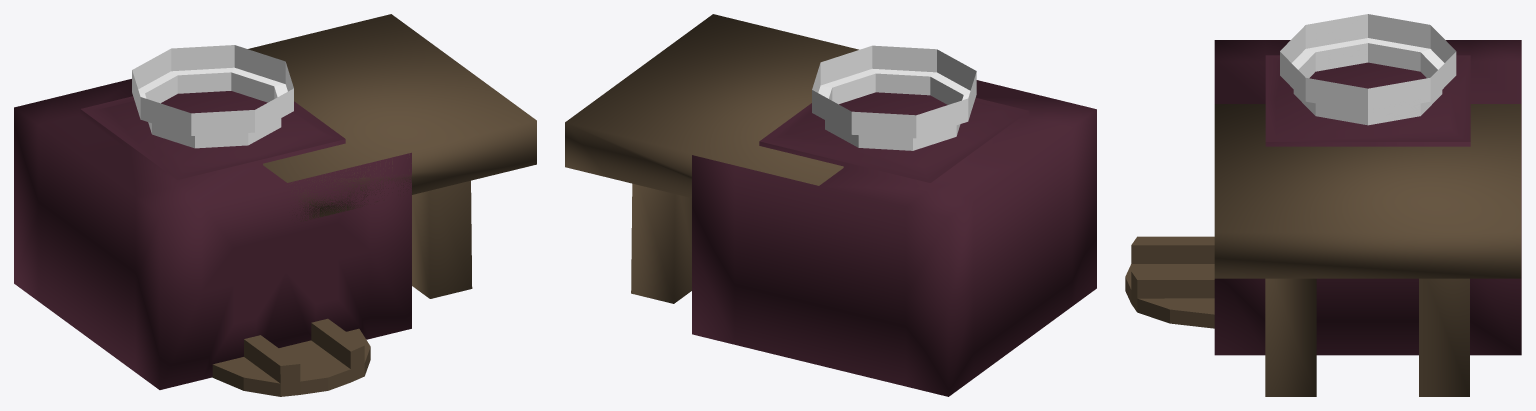
The picture shows the model from 3 angles, left to right: view 1: azimuth 30°, elevation 25°; view 2: azimuth 150°, elevation 25°; view 3: azimuth 270°, elevation 25°; orthographic projection. The views are drawn at different scales.
Parts seen in each view (by area): view 1: 竈の炉, 作業台, 竈の釜, 竈押木; view 2: 竈の炉, 作業台, 竈の釜; view 3: 作業台, 竈の炉, 竈の釜, 竈押木.
Part boxes in pixels (box(x1,y1,x2,y2)): 竈の炉: box(14, 79, 411, 389); 作業台: box(248, 14, 536, 298); 竈の釜: box(132, 45, 293, 148); 竈押木: box(212, 318, 370, 396); 竈の炉: box(692, 80, 1096, 396); 作業台: box(565, 14, 858, 303); 竈の釜: box(812, 45, 976, 150); 作業台: box(1214, 104, 1521, 396); 竈の炉: box(1214, 40, 1521, 355); 竈の釜: box(1280, 14, 1456, 125); 竈押木: box(1125, 236, 1214, 328).
Bounding box in the file's own units: 8.97 × 5.16 × 7.74.
